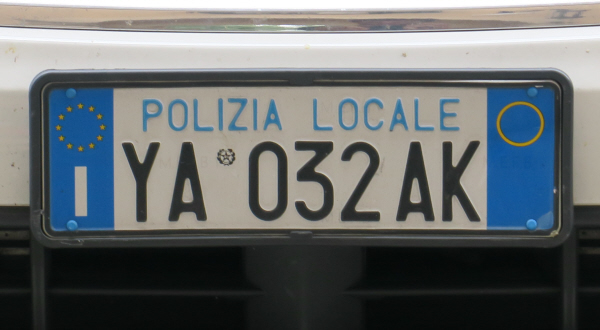license_plate: (42, 80, 560, 239)
